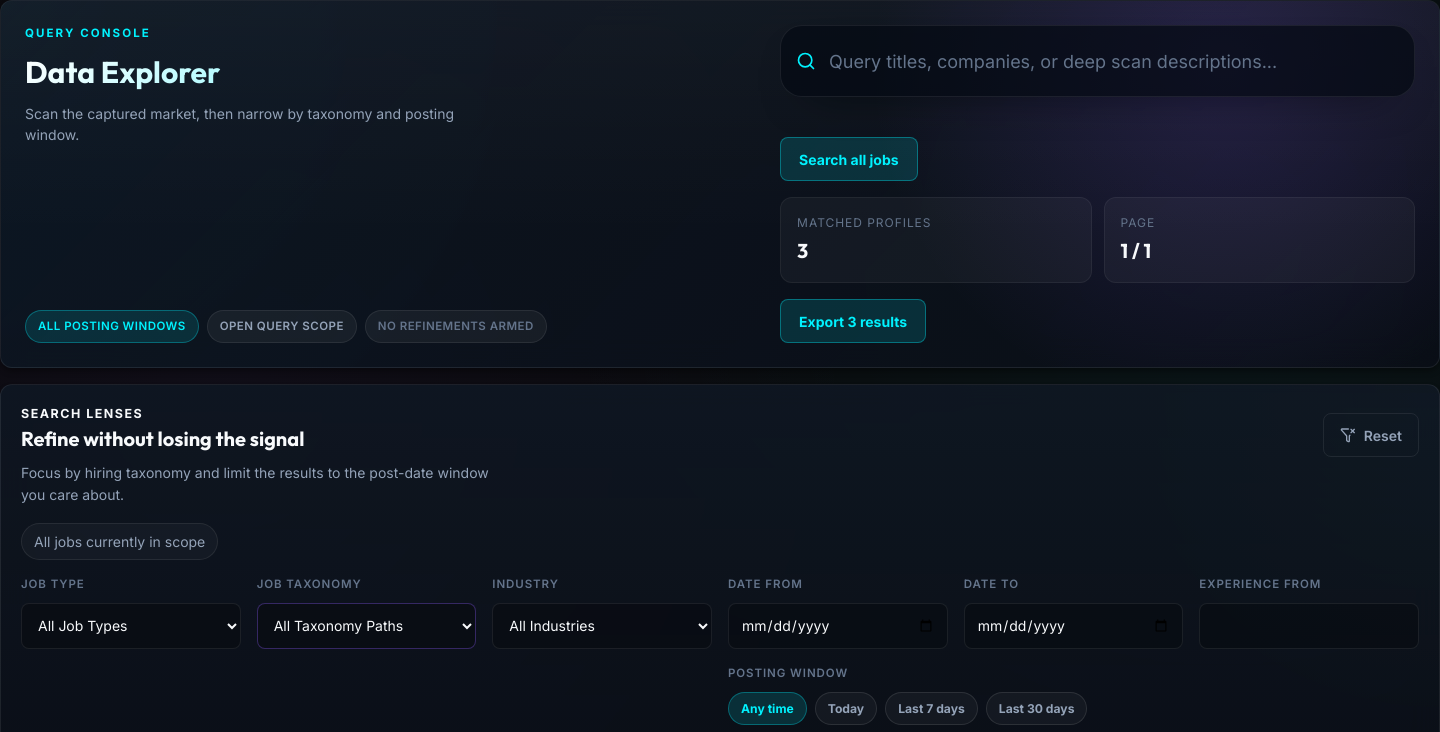
Test: JobBrowser › preserves the scope trail and recovery actions when a refine returns no results
Type "erp" into the field with placeholder "Query titles, companies, or deep scan descriptions..." at x=1098, y=61, box 780,25 -> 1415,97
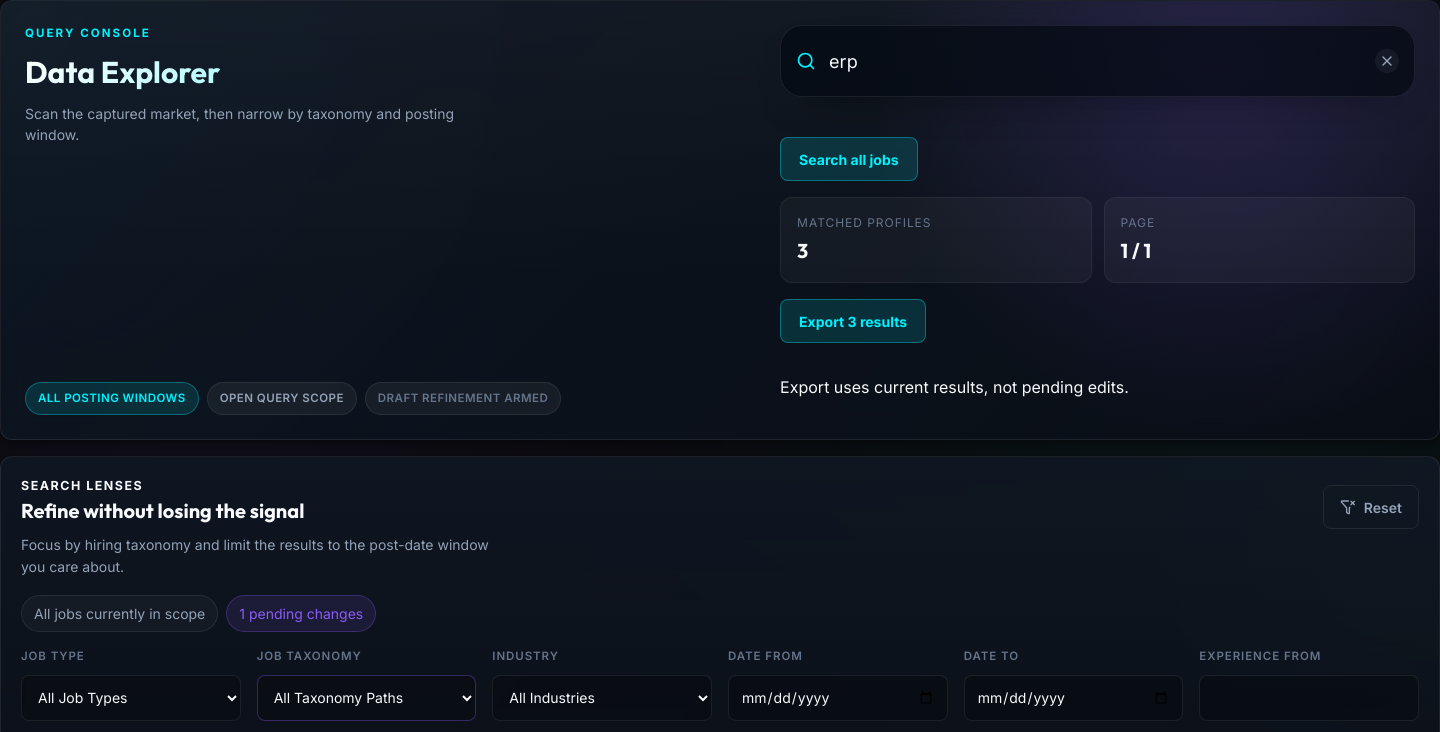
Click the button "Search all jobs" at x=849, y=159, box 780,137 -> 918,181
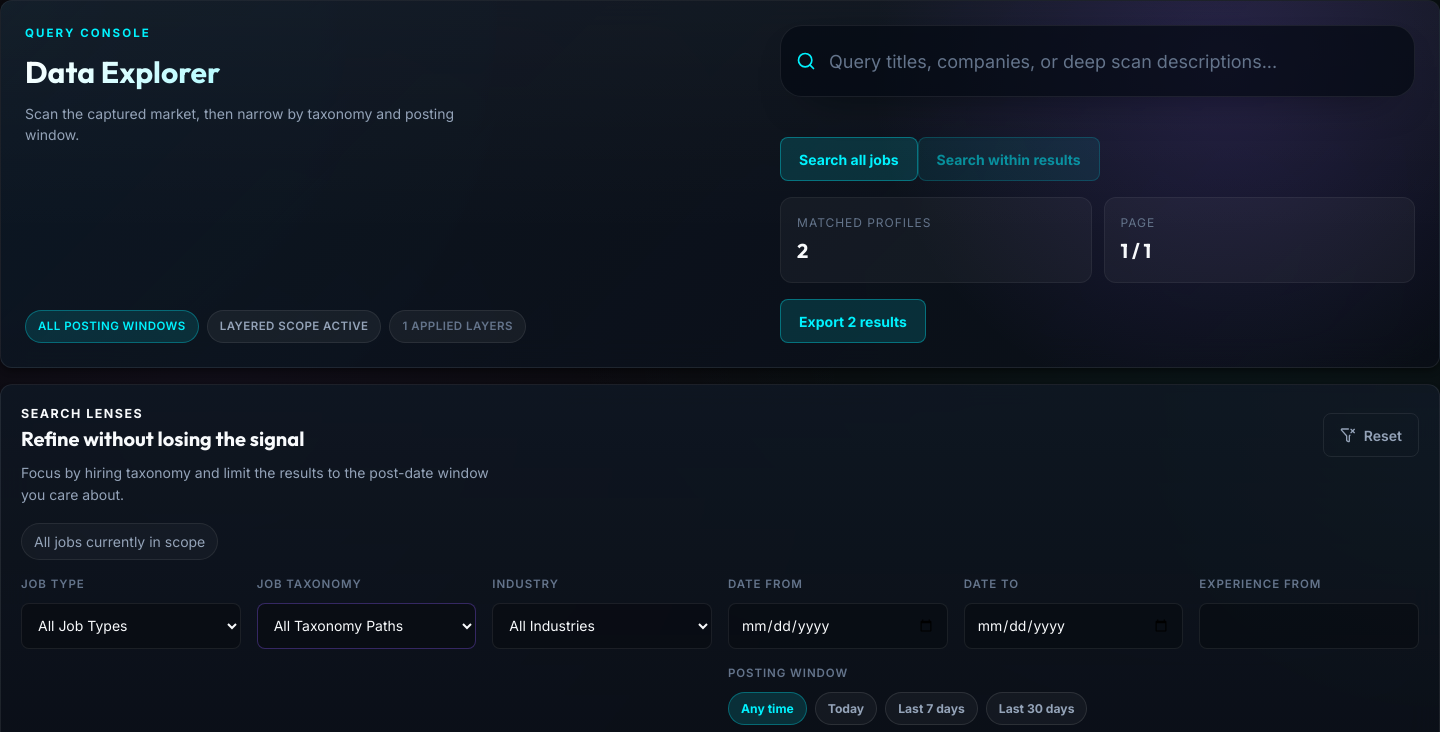
Check: the button "Search within results" is shown, box 918,137 -> 1100,181
Type "=NoMatch" into the field with placeholder "Query titles, companies, or deep scan descriptions..." at x=1098, y=61, box 780,25 -> 1415,97
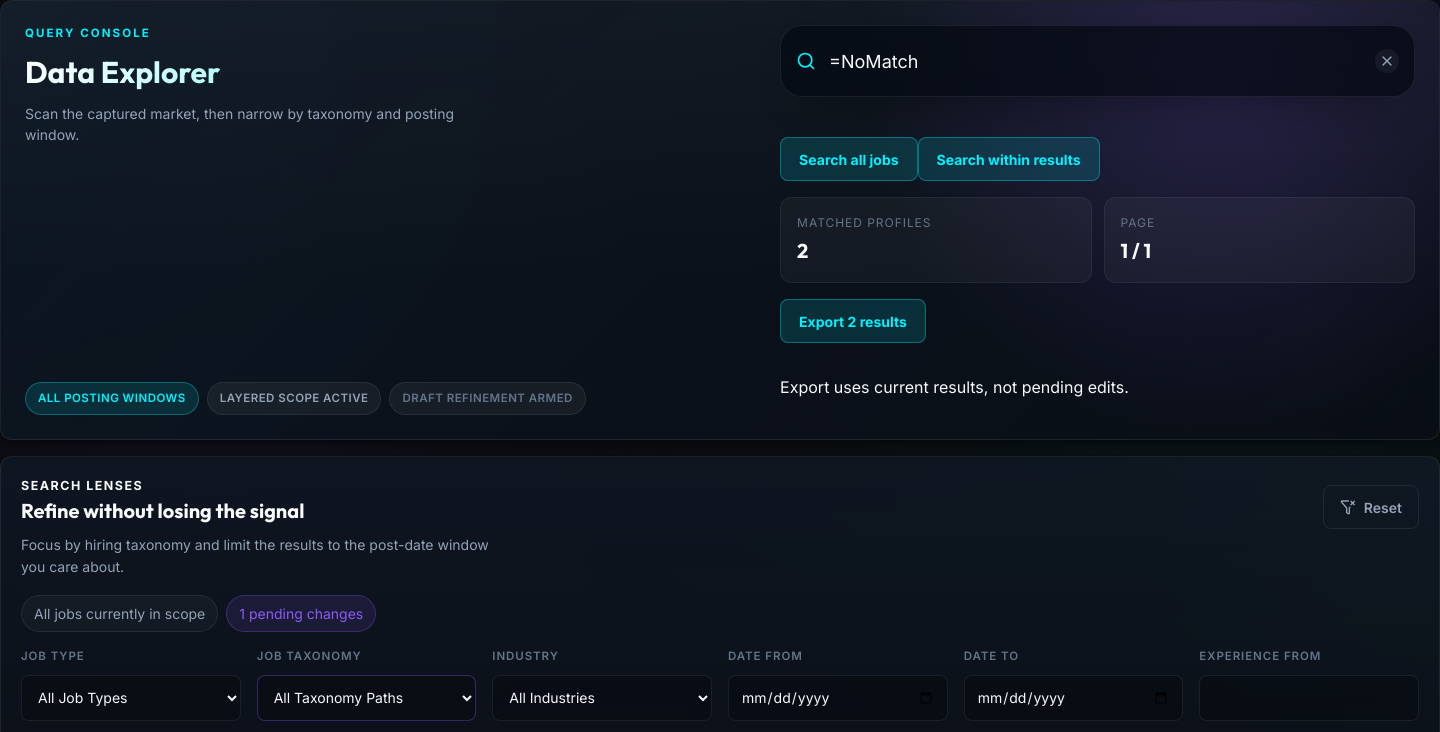
Click the button "Search within results" at x=1009, y=159, box 918,137 -> 1100,181
(page scrolled)
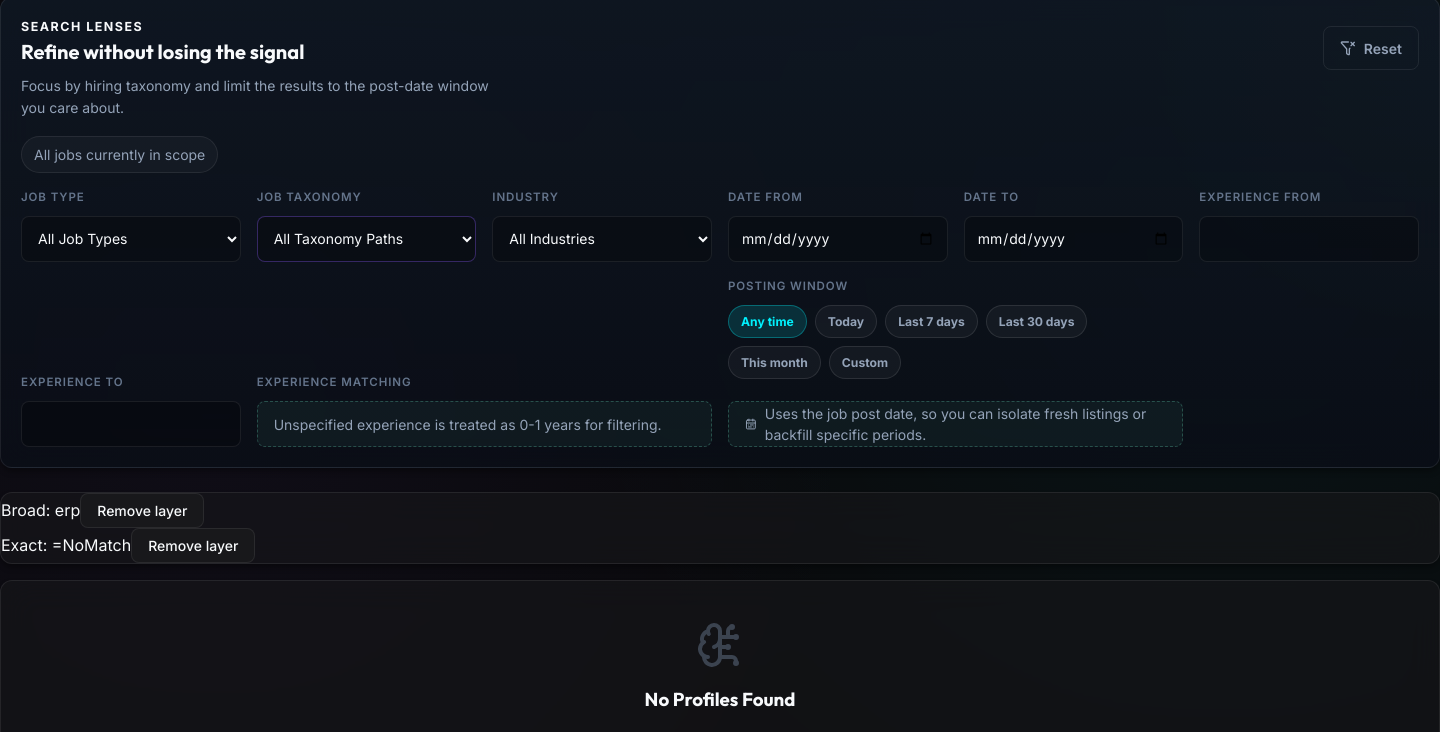
Check: the element named "active scope trail" is shown, box 0,492 -> 1439,564
Check: the button "Remove layer" next to "Broad: erp" is shown, box 80,493 -> 204,528
Check: the heading "No Profiles Found" is shown, box 645,685 -> 795,713
